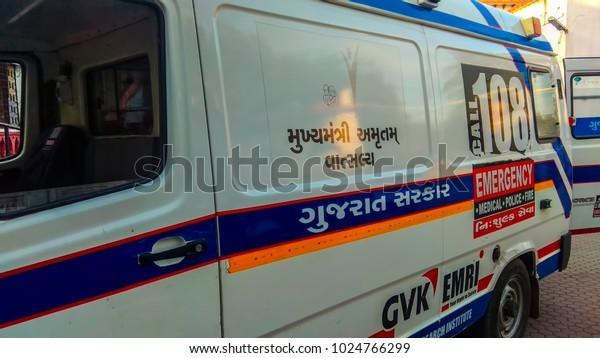ER: (0, 0, 600, 339)
